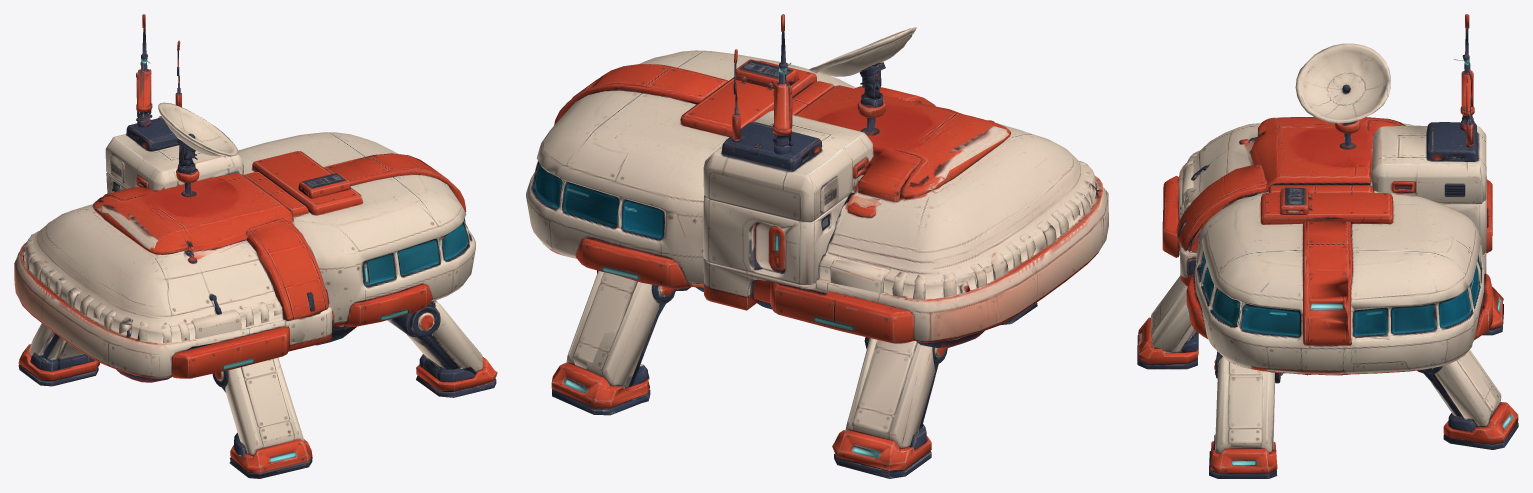
Rendered from station.fbx.
3 renders of one model, left to right at view 1: azimuth 30°, elevation 25°; view 2: azimuth 150°, elevation 25°; view 3: azimuth 270°, elevation 25°, orthographic. The views are drawn at different scales.
Visible parts, largest first — view 1: station; view 2: station; view 3: station.
Boxes of the visible parts, x1,y1,x2,y2 form: station: [14, 14, 497, 478]; station: [526, 14, 1108, 478]; station: [1137, 14, 1518, 478].
Size of the model in its own units: 14 by 11.35 by 11.25.
